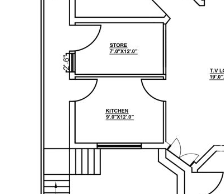door: (64, 20, 110, 55), (65, 76, 103, 106), (138, 76, 172, 106)
window: (93, 135, 152, 162)
